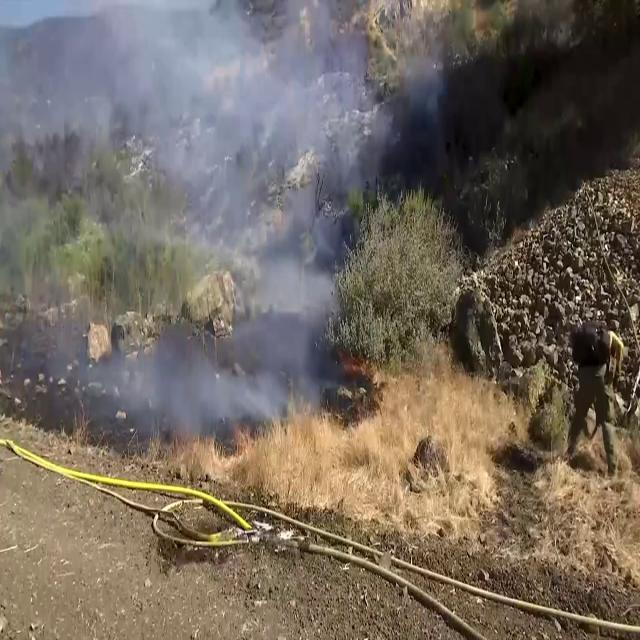Smoke: (78, 1, 380, 440)
